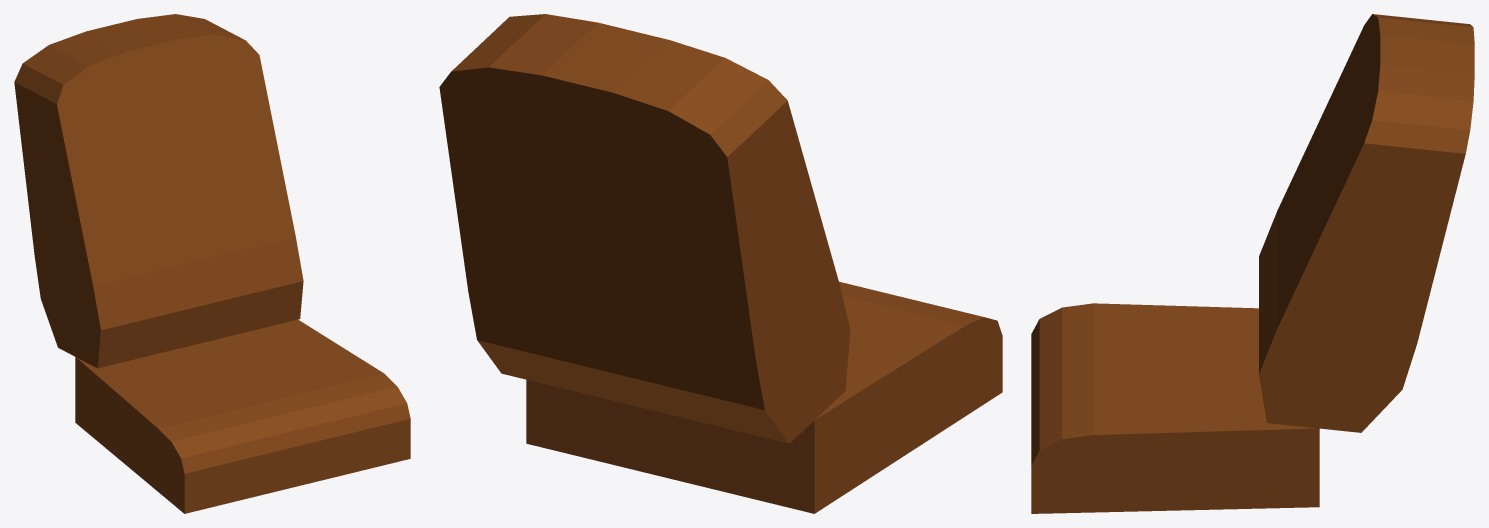
File: Chair5.fbx
The picture shows the model from 3 angles, left to right: view 1: azimuth 30°, elevation 25°; view 2: azimuth 150°, elevation 25°; view 3: azimuth 270°, elevation 25°; orthographic projection. The views are drawn at different scales.
Visible parts, largest first — view 1: Chair5; view 2: Chair5; view 3: Chair5.
Part boxes in pixels (box(x1,y1,x2,y2)): Chair5: box(14, 14, 410, 513); Chair5: box(439, 14, 1002, 513); Chair5: box(1031, 14, 1474, 513).
Size of the model in its own units: 394 by 555 by 560.
